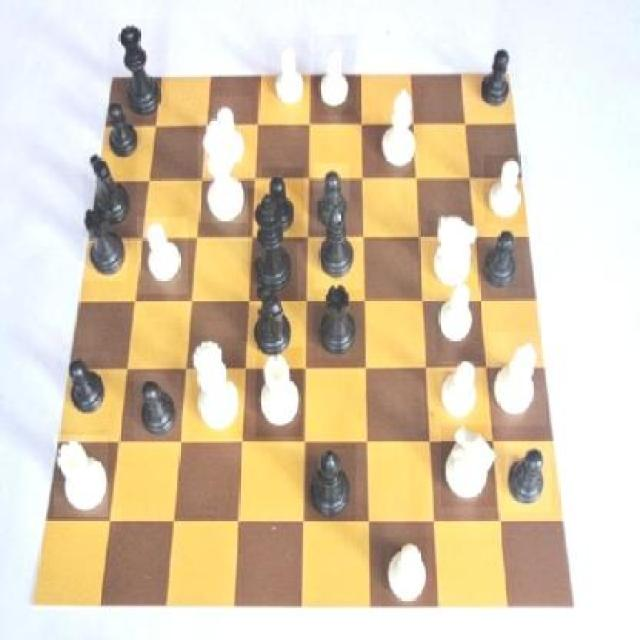bishop: (314, 200, 361, 289), (308, 444, 357, 522)
black-bishop: (248, 188, 297, 300)
black-king: (83, 148, 136, 237), (248, 272, 294, 363)
black-knight: (63, 354, 111, 431), (261, 166, 304, 242), (99, 103, 152, 163), (504, 443, 550, 512), (134, 372, 180, 440), (477, 41, 519, 114), (480, 223, 526, 289), (314, 163, 351, 231)
black-pawn: (109, 18, 169, 122)
black-queen: (314, 282, 368, 369), (81, 198, 128, 281)
black-rook: (490, 332, 546, 426), (377, 84, 425, 174)
white-bishop: (198, 115, 248, 223)
white-king: (440, 426, 495, 509), (428, 210, 478, 288)
white-knight: (137, 217, 188, 294), (380, 536, 434, 608), (436, 274, 480, 360), (437, 358, 485, 432), (314, 36, 356, 116), (212, 97, 252, 173), (485, 156, 529, 224), (266, 39, 310, 106)
white-pawn: (190, 335, 248, 438)
white-queen: (54, 435, 108, 518), (255, 348, 302, 438)
